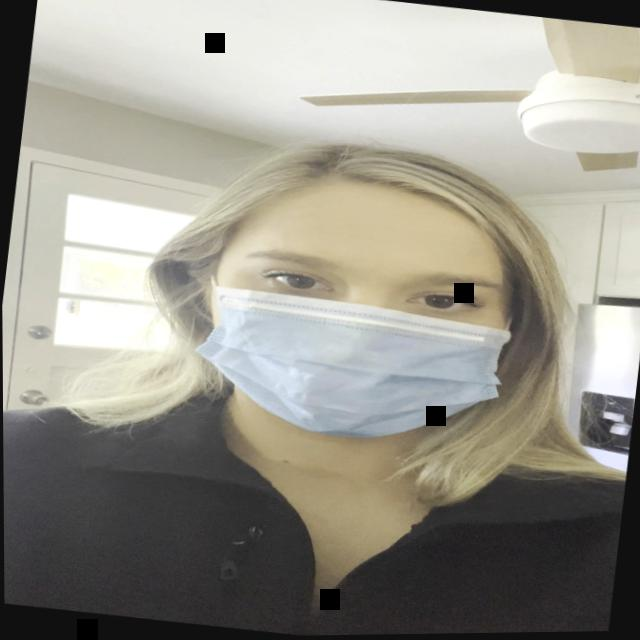Mask: (184, 158, 534, 462)
